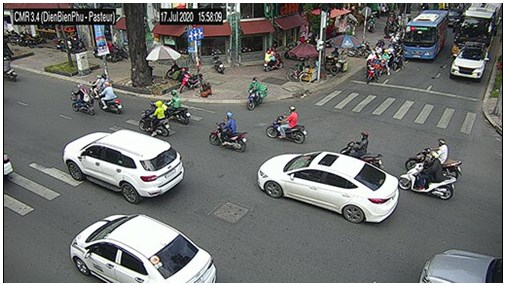xe_buyt: (403, 9, 449, 59), (454, 3, 499, 44)
xe_hoi: (256, 150, 399, 225), (70, 214, 216, 283), (63, 129, 184, 203), (420, 249, 503, 283), (450, 41, 490, 81)
xe_may: (399, 152, 456, 199), (406, 138, 462, 178), (340, 131, 384, 170), (208, 111, 248, 151), (266, 105, 307, 144), (139, 101, 170, 137), (166, 88, 190, 124), (98, 82, 123, 114), (71, 83, 94, 115), (248, 77, 267, 110), (264, 48, 284, 71), (179, 72, 203, 91), (91, 74, 108, 97), (366, 59, 379, 85), (392, 45, 405, 71), (5, 56, 17, 84), (379, 51, 392, 75), (367, 14, 376, 34)
